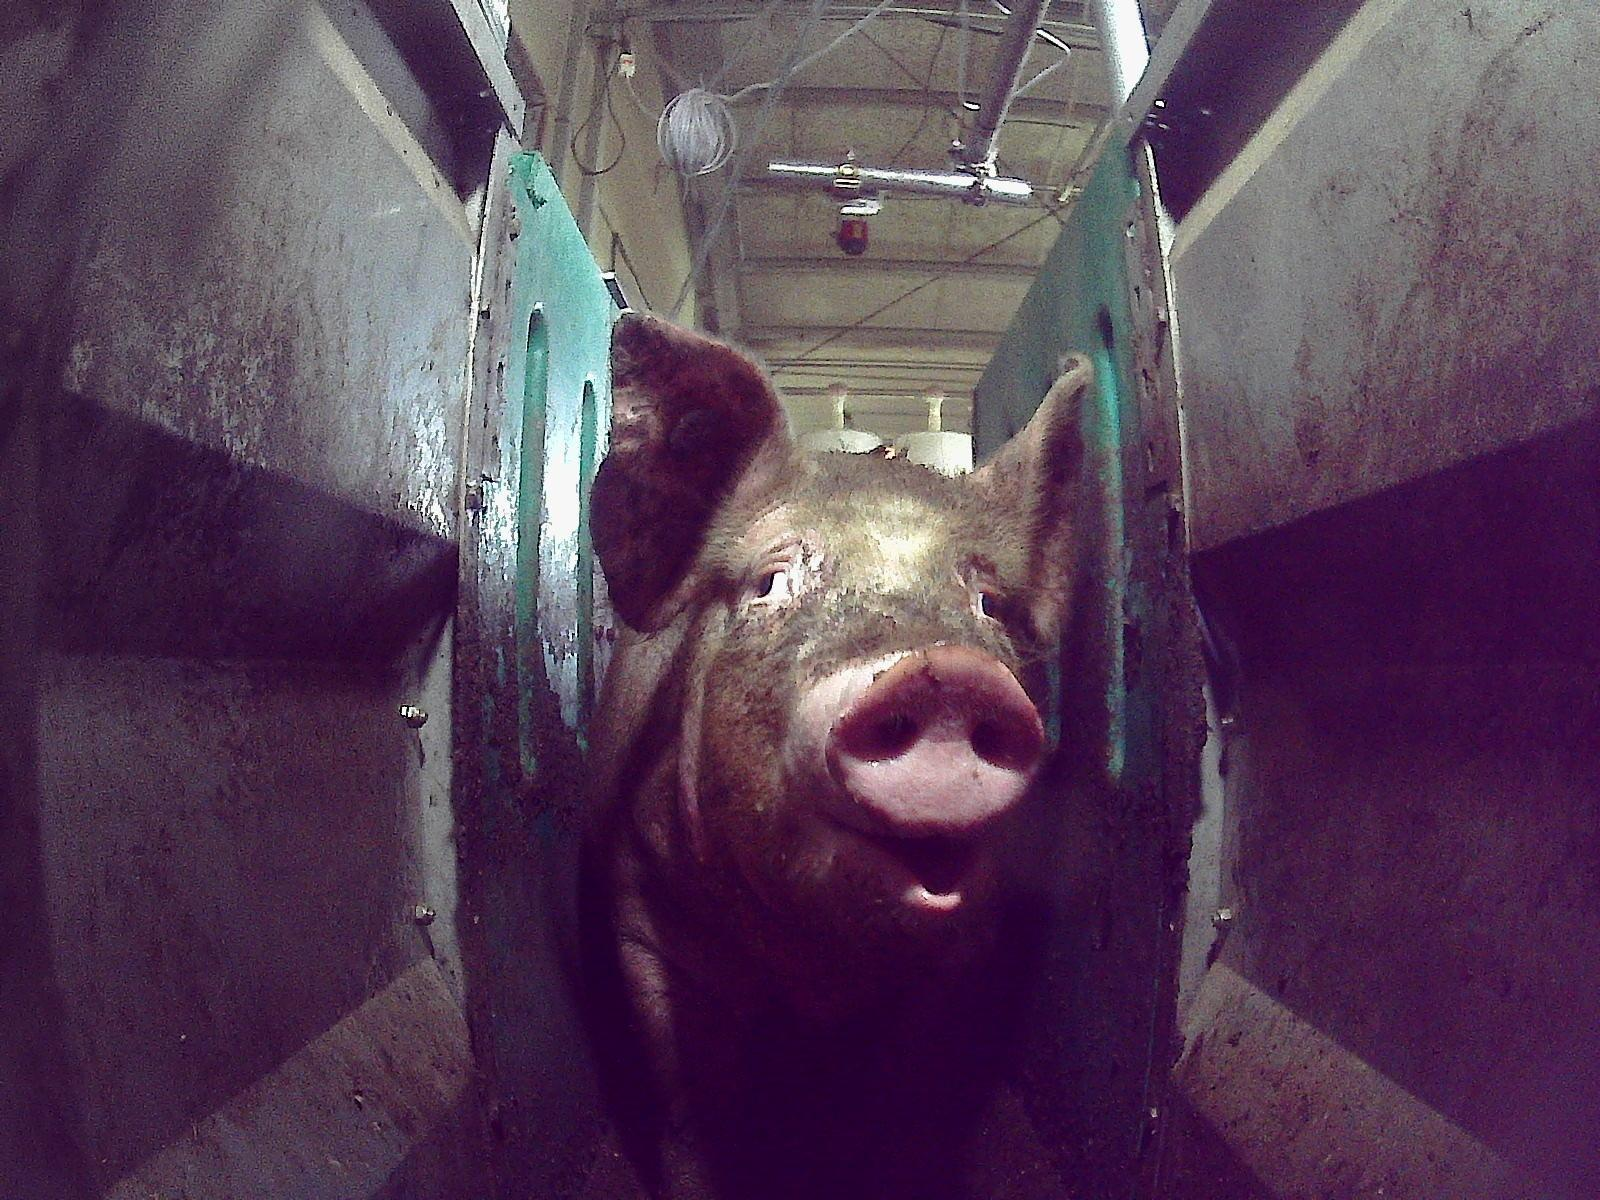Face: (679, 445, 1058, 945)
